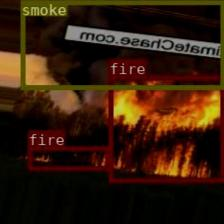fire: (107, 74, 224, 181), (27, 146, 109, 170)
smoke: (20, 0, 223, 88)
